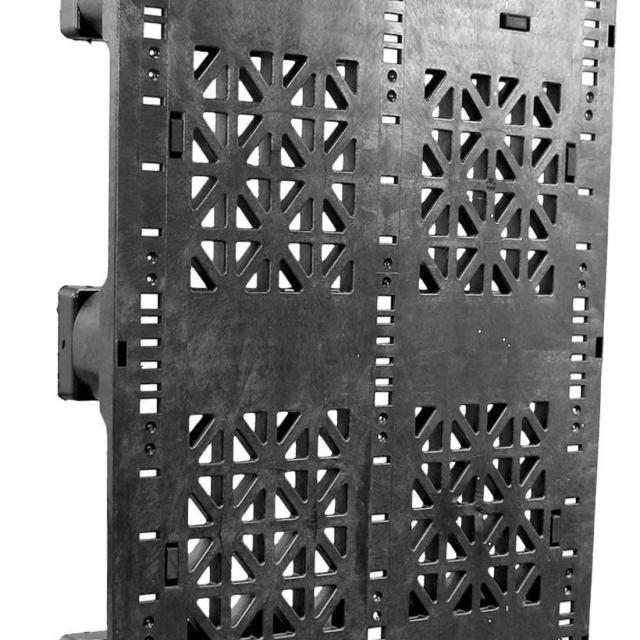non-igps: (51, 0, 624, 640)
